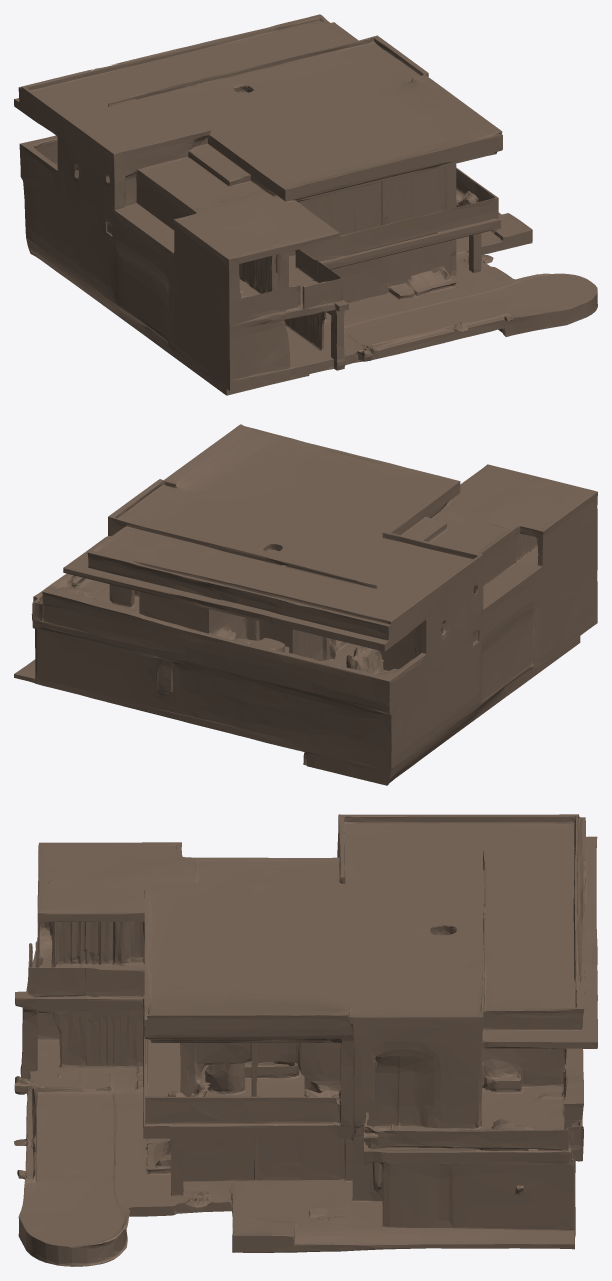
Rendered from villa_pbr.glb.
3 views of the same model, one above another, from view 1: azimuth 30°, elevation 25°; view 2: azimuth 150°, elevation 25°; view 3: azimuth 270°, elevation 25° (orthographic). The views are drawn at different scales.
Visible parts, largest first — view 1: geometry_0; view 2: geometry_0; view 3: geometry_0.
Boxes of the visible parts, <box> form: geometry_0: <box>14,14,597,395</box>; geometry_0: <box>14,424,597,785</box>; geometry_0: <box>14,814,597,1266</box>.
Size of the model in its own units: 0.9779 by 0.4128 by 0.9997.
